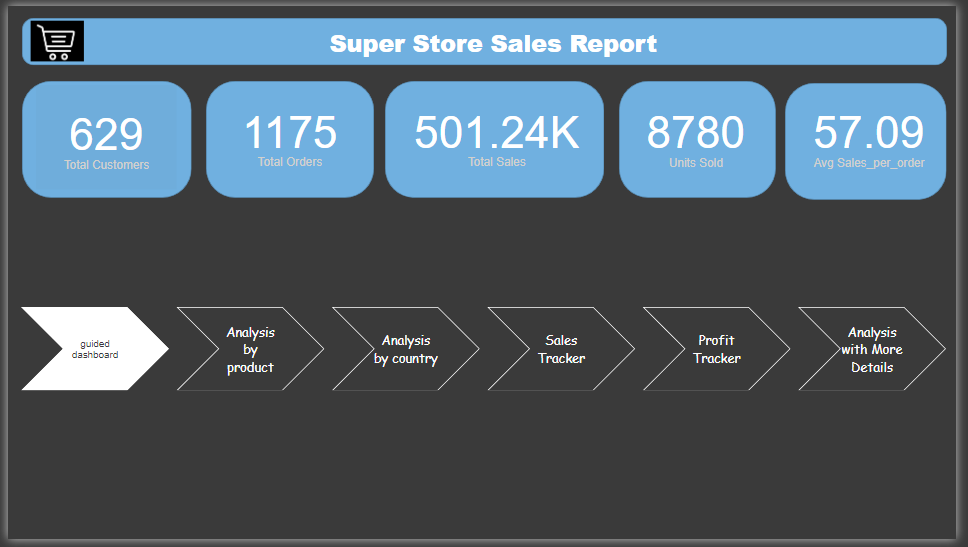

What the dashboard file says about the page in this screenshot:
{"tool":"powerbi","page":{"name":"Overview","canvas":[1280,720],"ordinal":0},"visuals":[{"type":"shape","box":[8.7,110.1,1263.8,220.3],"z":0},{"type":"shape","box":[113,18.8,1055.1,78.3],"z":1000},{"type":"textbox","box":[127.5,23.2,1026.1,69.6],"z":2000},{"type":"cardVisual","fields":{"Data":["Measures_KPIs.Total_orders","Measures_KPIs.total_units_sold","Measures_KPIs.total_sales"]},"box":[15.9,124.6,752.2,188.4],"z":3000},{"type":"image","box":[9.2,344.7,1257.9,292.1],"z":4000},{"type":"cardVisual","fields":{"Data":["Measures_KPIs.total_revenue","Measures_KPIs.rating_average"]},"box":[768.1,124.6,498.6,188.4],"z":5000},{"type":"pageNavigator","box":[84.1,650.8,1107.9,50.8],"z":6000}]}

Visuals, with their boxes in screenshot pixels (x1, y1, x2, y2), scaled from the page's 1280x720 canvas onto the 968x547 screenshot:
shape: rect(7, 84, 962, 251)
shape: rect(85, 14, 883, 74)
textbox: rect(96, 18, 872, 71)
cardVisual - Measures_KPIs.Total_orders x Measures_KPIs.total_units_sold: rect(12, 95, 581, 238)
image: rect(7, 262, 958, 484)
cardVisual - Measures_KPIs.total_revenue x Measures_KPIs.rating_average: rect(581, 95, 958, 238)
pageNavigator: rect(64, 494, 901, 533)
